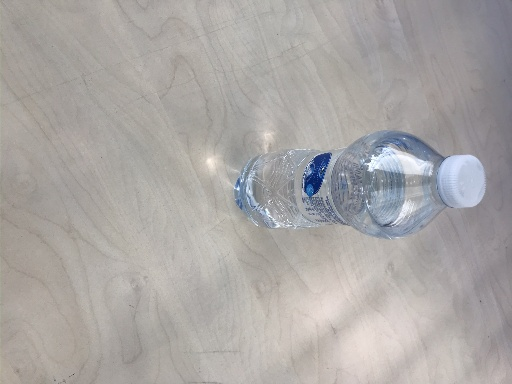Acqua: (233, 128, 489, 240)
